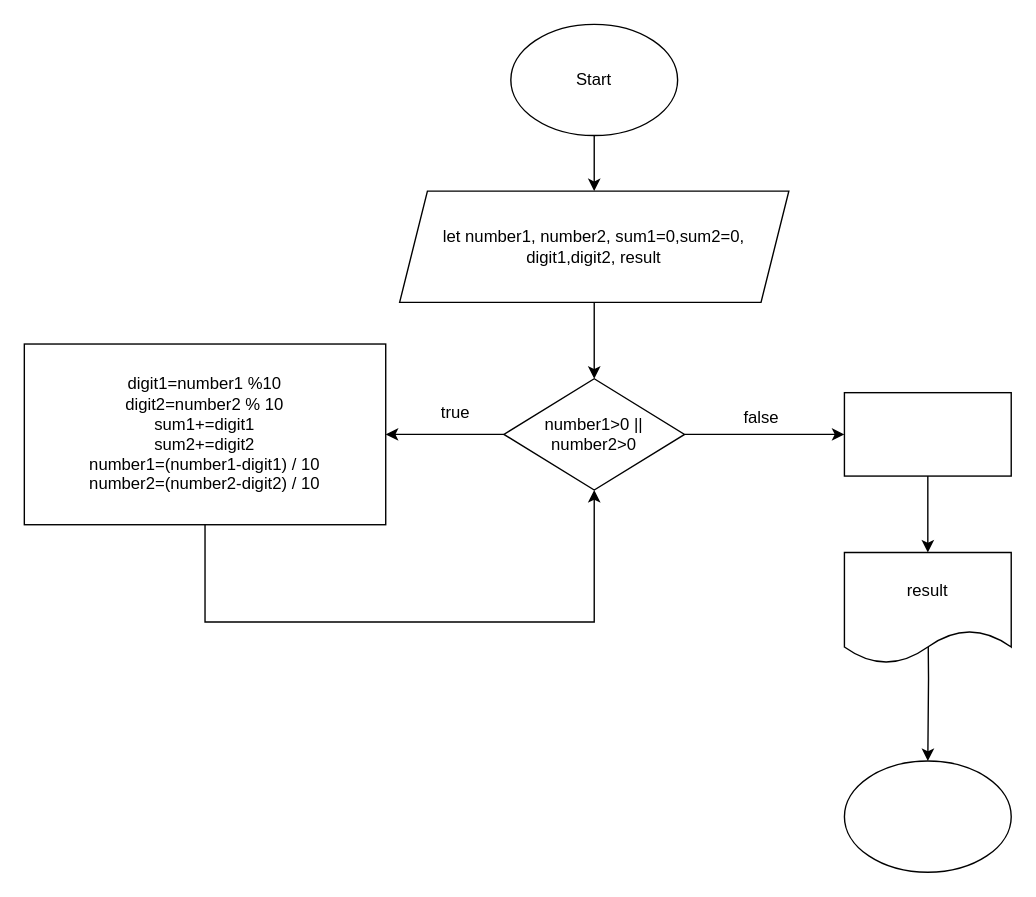
Some shapes in this 1036 by 897 pixel diagram are drawn without their labels. Each missing label, with the centre of its shape:
End: point 927,816
result = sum1 x sum2: point 927,433
